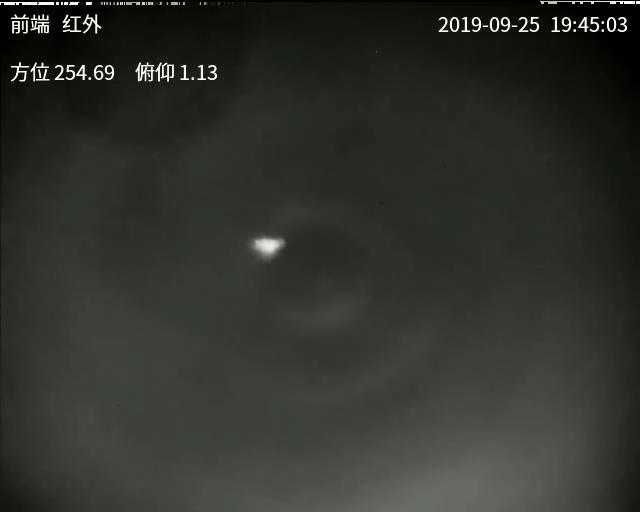uav: (246, 235, 291, 257)
